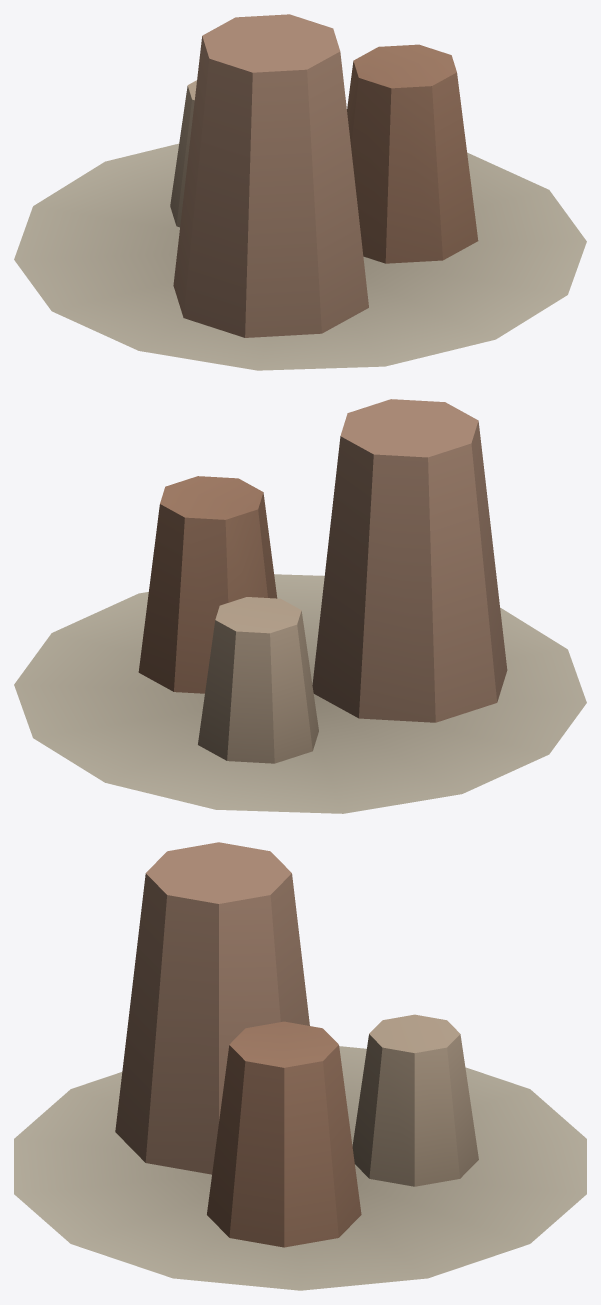
The model's file is pots.glb.
3 renders of one model, top to bottom at view 1: azimuth 30°, elevation 25°; view 2: azimuth 150°, elevation 25°; view 3: azimuth 270°, elevation 25°, orthographic. The views are drawn at different scales.
Visible parts, largest first — view 1: pots; view 2: pots; view 3: pots.
Part boxes in pixels (x1,y1,x2,y2): pots: [14, 14, 586, 370]; pots: [14, 399, 586, 813]; pots: [14, 842, 586, 1290].
Size of the model in its own units: 1.8 by 0.9 by 1.75.
